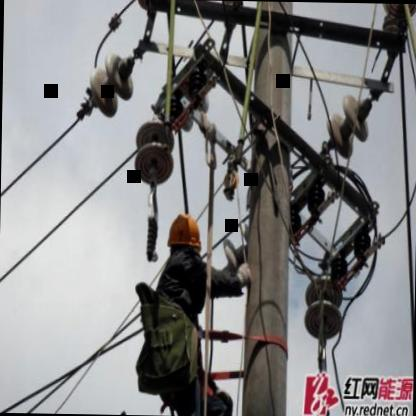helmet: (164, 208, 207, 278)
